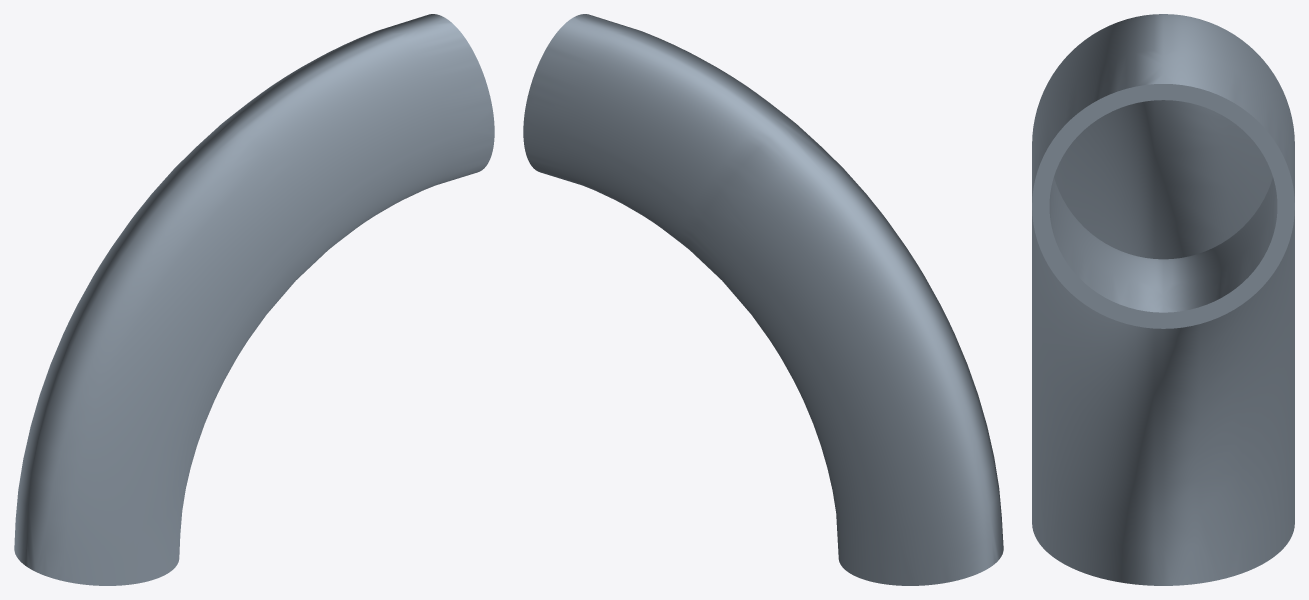
File: elbow_90.glb
3 views of the same model, side by side, from view 1: azimuth 30°, elevation 25°; view 2: azimuth 150°, elevation 25°; view 3: azimuth 270°, elevation 25° (orthographic). The views are drawn at different scales.
Parts seen in each view (by area): view 1: elbow; view 2: elbow; view 3: elbow.
Part boxes in pixels (<box>): elbow: <box>14,14,494,585</box>; elbow: <box>523,14,1003,585</box>; elbow: <box>1032,14,1294,585</box>.
Bounding box in the file's own units: 0.1821 × 0.1821 × 0.0603.
